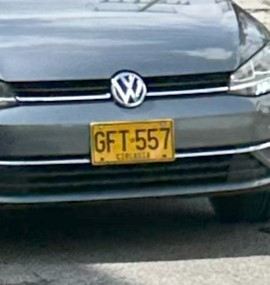number plate: (90, 119, 174, 165)
